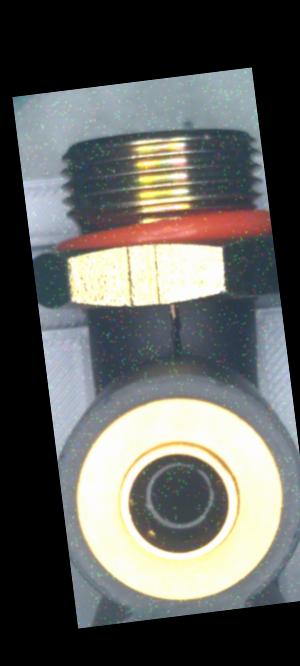craze: (158, 301, 191, 359)
